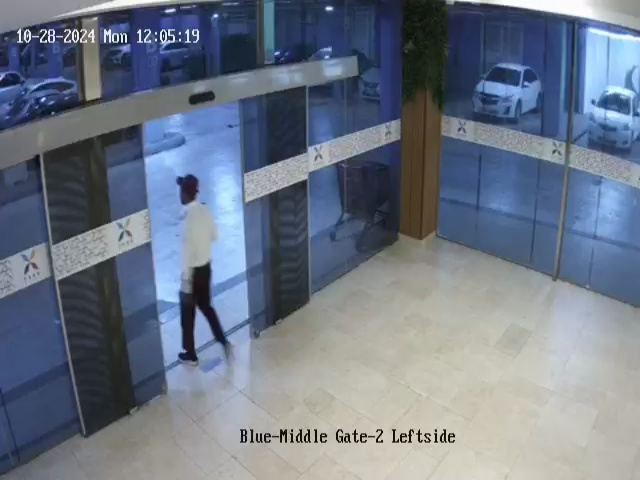male: (175, 174, 234, 366)
